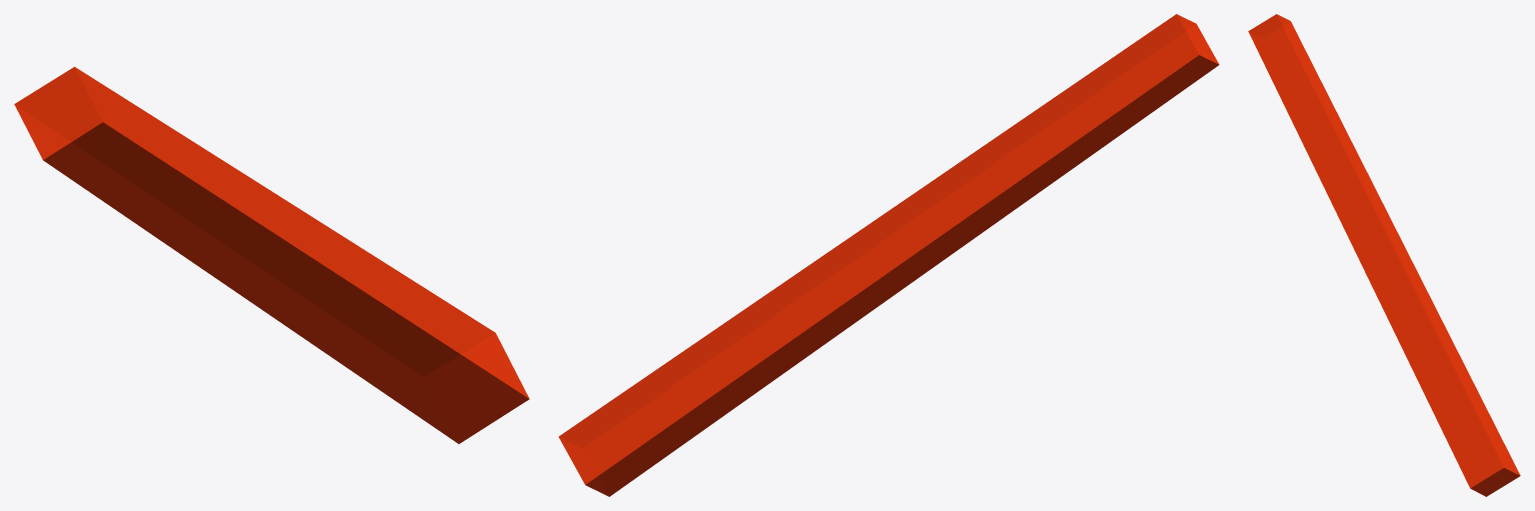
File: Event_421364160_EBrechit_25.fbx
3 renders of one model, left to right at view 1: azimuth 30°, elevation 25°; view 2: azimuth 150°, elevation 25°; view 3: azimuth 270°, elevation 25°, orthographic. The views are drawn at different scales.
Parts seen in each view (by area): view 1: Model; view 2: Model; view 3: Model.
Part boxes in pixels (<box>): Model: <box>14,66,529,443</box>; Model: <box>558,14,1219,496</box>; Model: <box>1248,14,1520,496</box>.
Bounding box in the file's own units: 0.6484 × 0.6028 × 0.4404.
